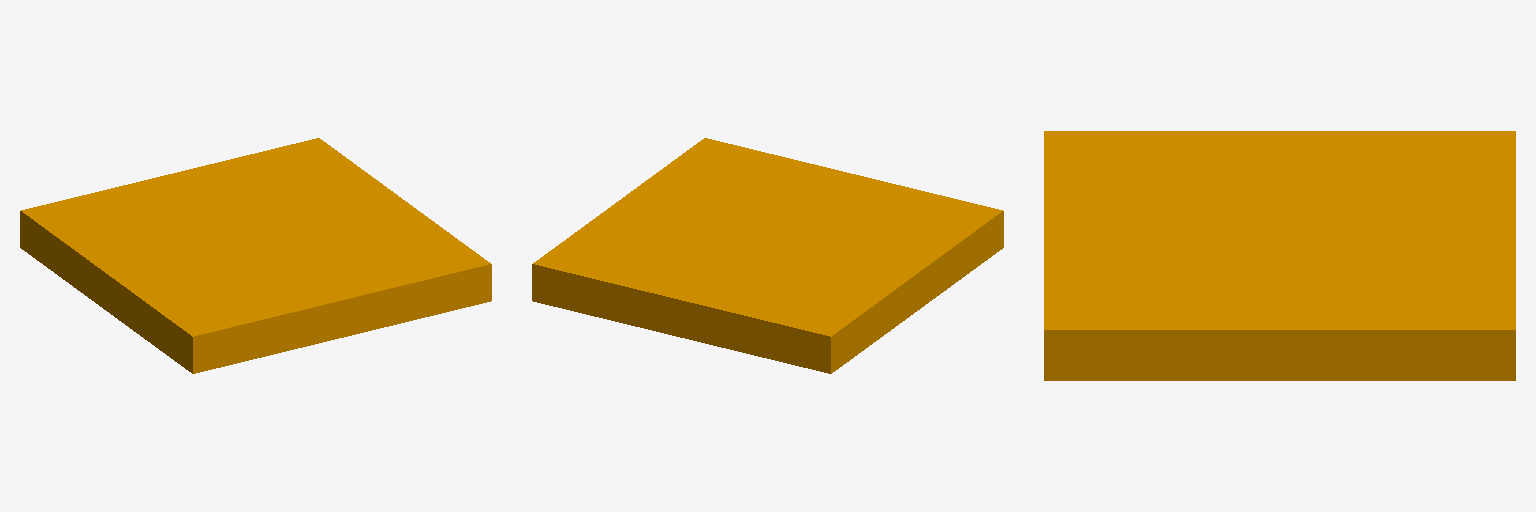
robot.urdf — apriltag_12_3611:
<robot name="apriltag_12_3611">

    <link name="apriltag_link_id12">
        <inertial>
            <origin xyz="0 0 0" rpy="0 0 0"/>
            <mass value="1.0"/>
            <inertia ixx="0.07461" ixy="0.0" ixz="0.0" iyy="0.5854" iyz="0.0" izz="0.02641"/>
        </inertial>
        <collision>
            <origin xyz="0 0 0" rpy="0 0 0"/>
            <geometry>
                <box size="0.2 0.2 0.1"/>
            </geometry>
        </collision>
        <visual>
            <origin xyz="0 0 0" rpy="0 0 0"/>
            <geometry>
                <mesh filename="package://apriltag_description/meshes/apriltag_12.dae"/>
            </geometry>
        </visual>
    </link>
    
    <gazebo reference="apriltag_link_id12">
        <kp>100000.0</kp>
        <kd>100000.0</kd>
        <mu1>0.1</mu1>
        <mu2>0.1</mu2>  
        <fdir1>1 0 0</fdir1>

           <!-- this tag may be unecessary if static is set to true
            (but using since may set static to false later)-->
        <gravity>0</gravity>
    </gazebo>

    <!-- Make sure that the reference="" attribute is not specified -->
    <gazebo>
        <static>true</static>
     
        
    </gazebo>
    

</robot>

--- Facts derived from the render (not from the file) ---
The picture shows the robot from 3 angles, left to right: view 1: azimuth 30°, elevation 25°; view 2: azimuth 150°, elevation 25°; view 3: azimuth 270°, elevation 25°; orthographic projection.
Model apriltag_12_3611 with 1 links and 0 joints (none), rooted at apriltag_link_id12, posed every joint at zero.
Links seen in each view (by area): view 1: apriltag_link_id12; view 2: apriltag_link_id12; view 3: apriltag_link_id12.
Boxes of the visible links, box(x1,y1,x2,y2) form: apriltag_link_id12: box(20, 138, 491, 373); apriltag_link_id12: box(532, 138, 1003, 373); apriltag_link_id12: box(1044, 131, 1515, 380).
Bounding box of the posed robot: 0.16 × 0.16 × 0.0192 m (x, y, z).
1 mesh visuals loaded from 1 distinct referenced files (1 Collada DAE).